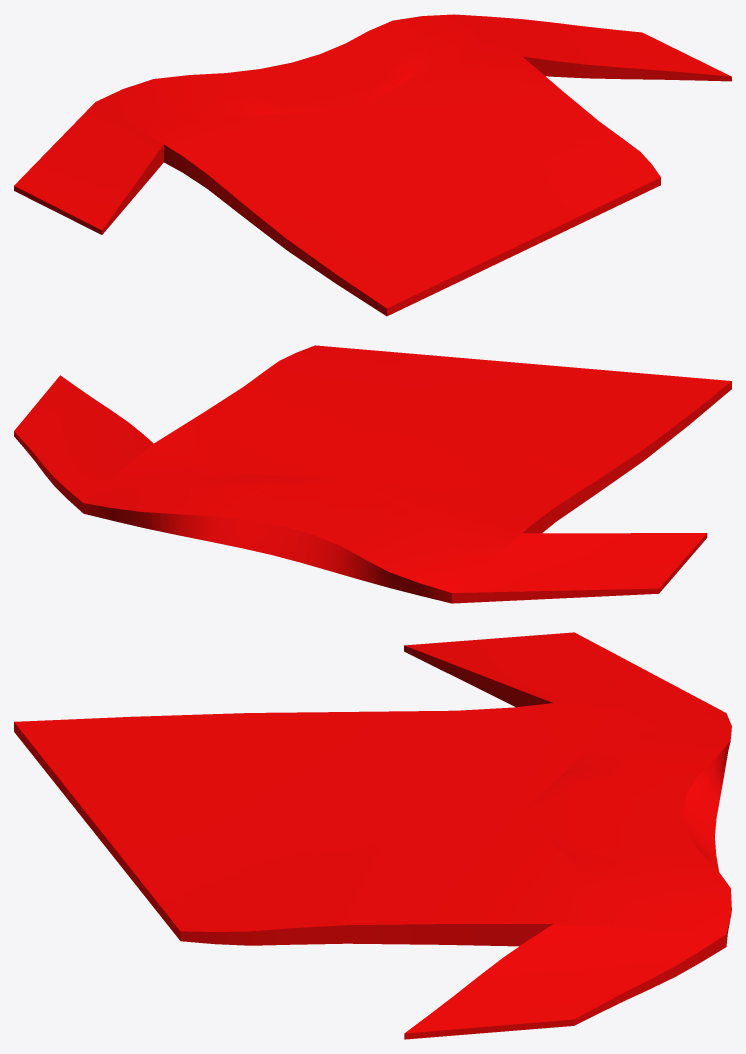
File: umgebung_tshirt_dreckig_low.FBX
3 renders of one model, top to bottom at view 1: azimuth 30°, elevation 25°; view 2: azimuth 150°, elevation 25°; view 3: azimuth 270°, elevation 25°, orthographic. The views are drawn at different scales.
Parts seen in each view (by area): view 1: o_tshirt_dreckig_low; view 2: o_tshirt_dreckig_low; view 3: o_tshirt_dreckig_low.
Boxes of the visible parts, x1,y1,x2,y2 form: o_tshirt_dreckig_low: [14, 14, 731, 316]; o_tshirt_dreckig_low: [14, 345, 731, 603]; o_tshirt_dreckig_low: [14, 632, 731, 1039].
Size of the model in its own units: 151 by 114 by 4.08.
